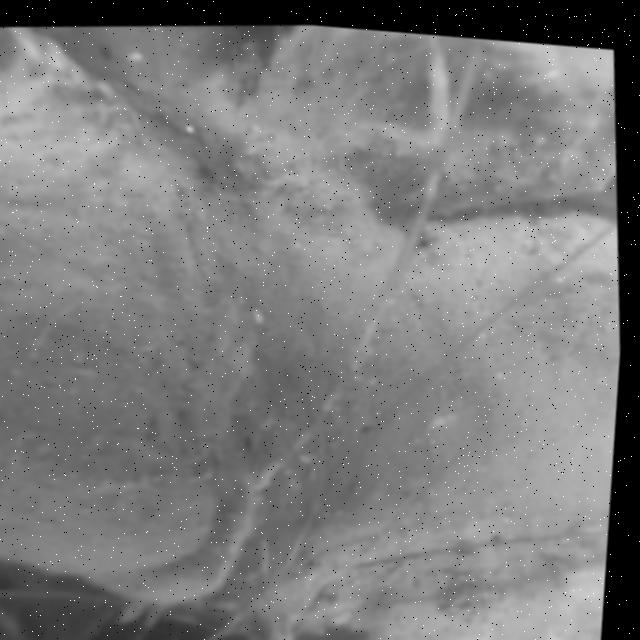Oyster-Closed: (0, 29, 260, 606)
Oyster-Indeterminate: (253, 25, 479, 212), (436, 40, 615, 218)
